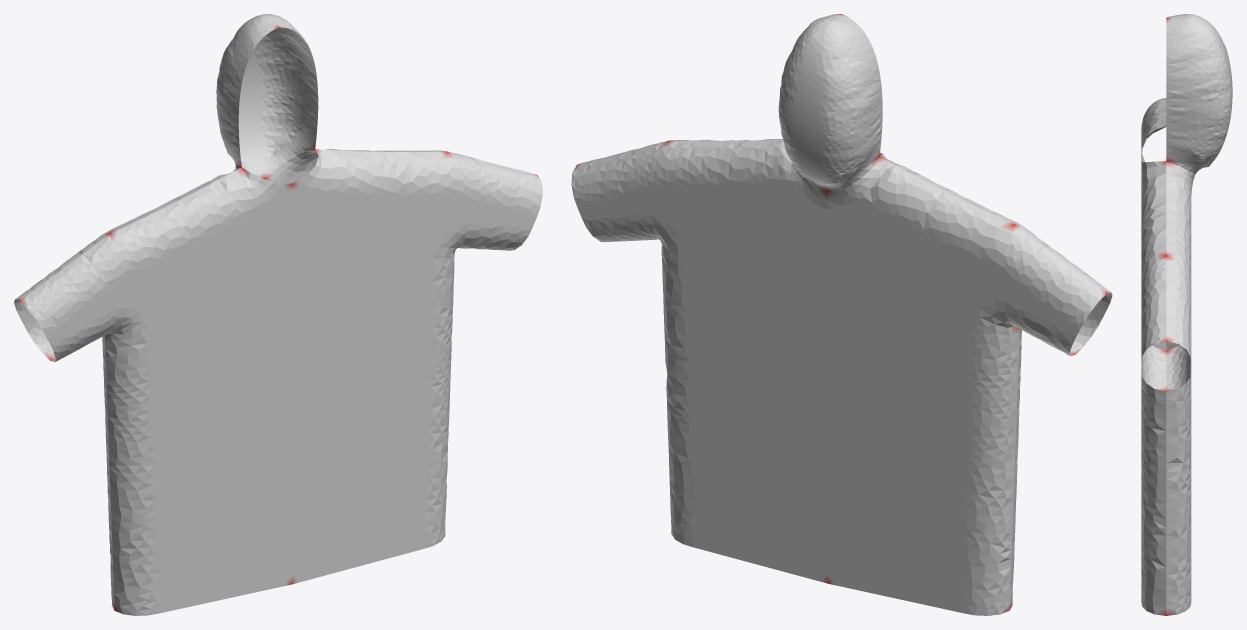
Rendered from mesh.obj.key.obj.
3 renders of one model, left to right at view 1: azimuth 30°, elevation 25°; view 2: azimuth 150°, elevation 25°; view 3: azimuth 270°, elevation 25°, orthographic. The views are drawn at different scales.
Bounding box in the file's own units: 0.9514 × 0.9656 × 0.1515.
